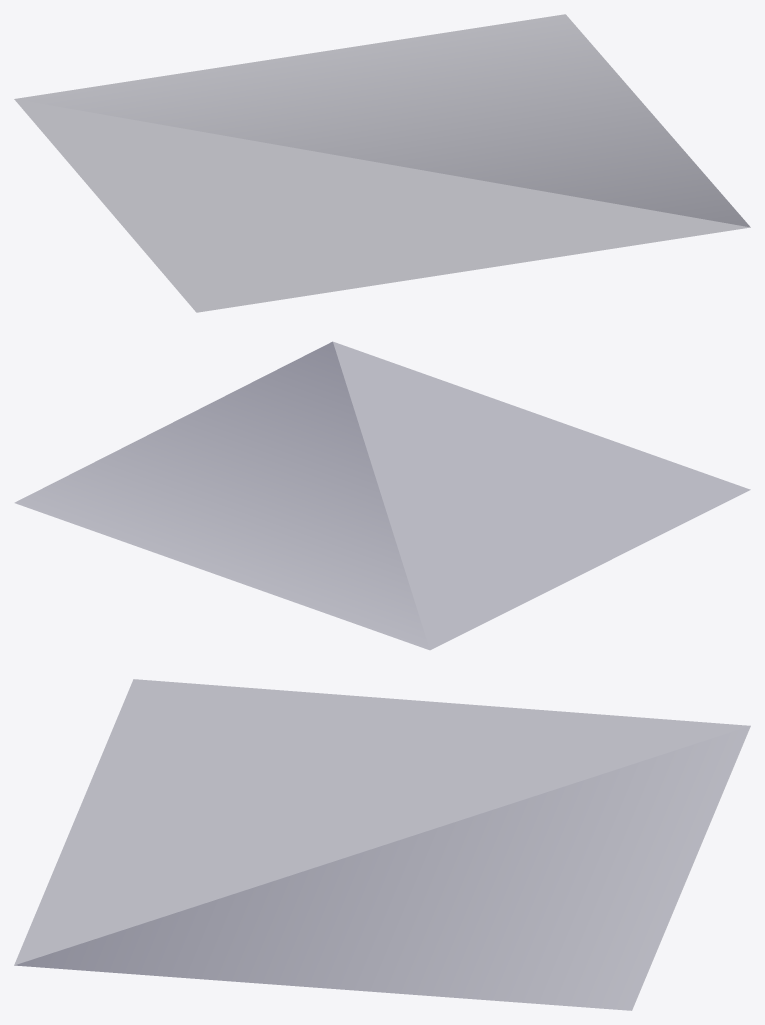
The picture shows the model from 3 angles, top to bottom: view 1: azimuth 30°, elevation 25°; view 2: azimuth 150°, elevation 25°; view 3: azimuth 270°, elevation 25°; orthographic projection. The views are drawn at different scales.
Parts seen in each view (by area): view 1: Joint_0_Object_0; view 2: Joint_0_Object_0; view 3: Joint_0_Object_0.
Part boxes in pixels (x1,y1,x2,y2): Joint_0_Object_0: [14, 14, 750, 312]; Joint_0_Object_0: [15, 342, 749, 649]; Joint_0_Object_0: [14, 679, 750, 1010].
Size of the model in its own units: 496 by 0.00549 by 466.
Materials: 1 (1 with a texture image).
